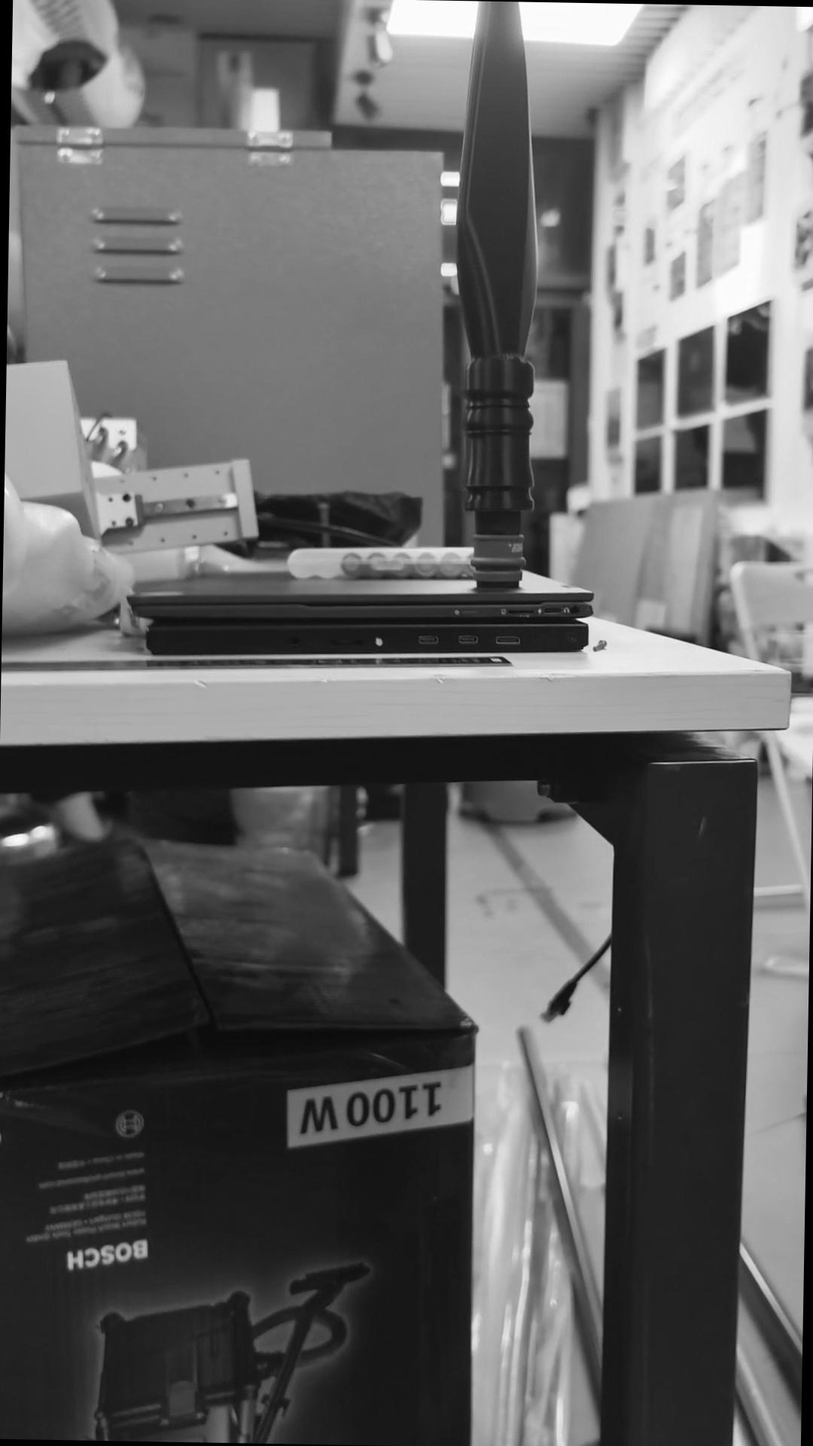base: (459, 523, 530, 601)
